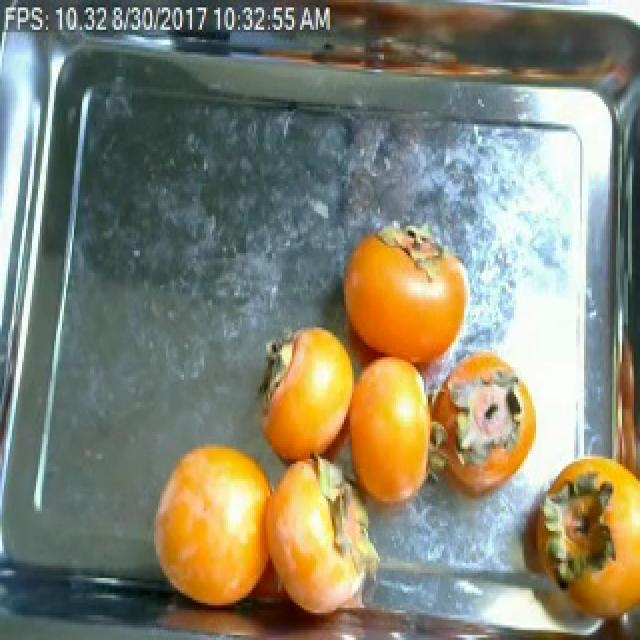Fruit: (138, 432, 284, 628), (326, 218, 480, 400), (250, 310, 364, 481)
